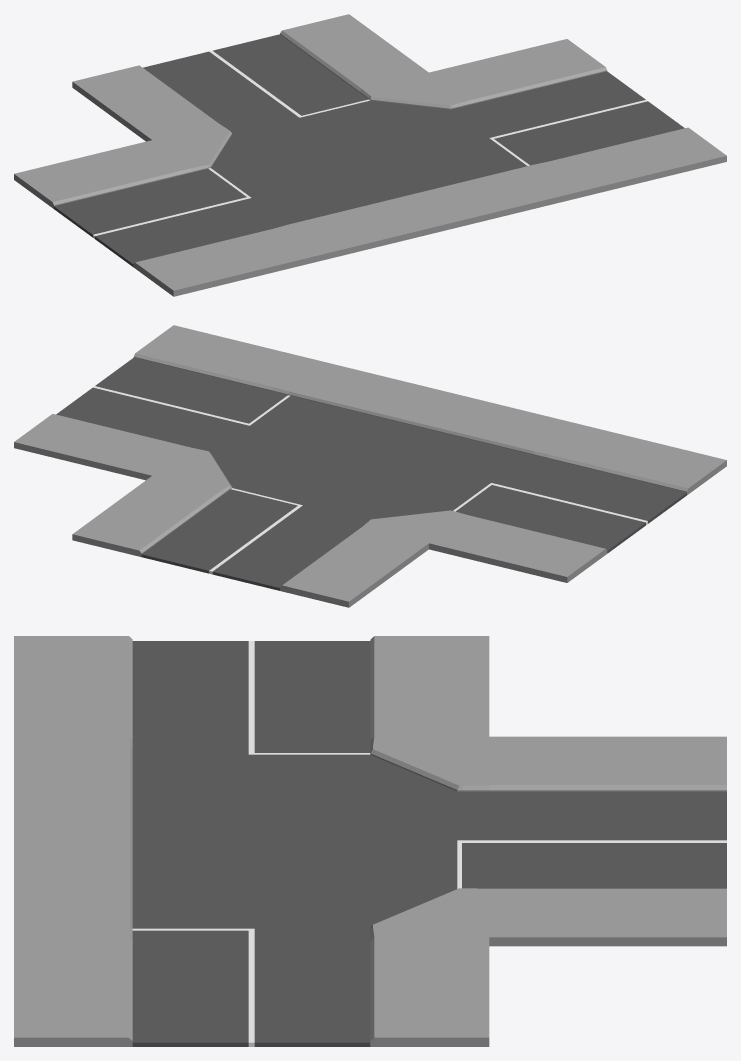
File: roadJunction.fbx
The picture shows the model from 3 angles, top to bottom: view 1: azimuth 30°, elevation 25°; view 2: azimuth 150°, elevation 25°; view 3: azimuth 270°, elevation 25°; orthographic projection. The views are drawn at different scales.
Parts seen in each view (by area): view 1: RoadJunction; view 2: RoadJunction; view 3: RoadJunction.
Boxes of the visible parts, x1,y1,x2,y2 form: RoadJunction: [14, 14, 726, 296]; RoadJunction: [14, 325, 726, 607]; RoadJunction: [14, 636, 726, 1046].
Size of the model in its own units: 4000 by 42.29 by 3000.
